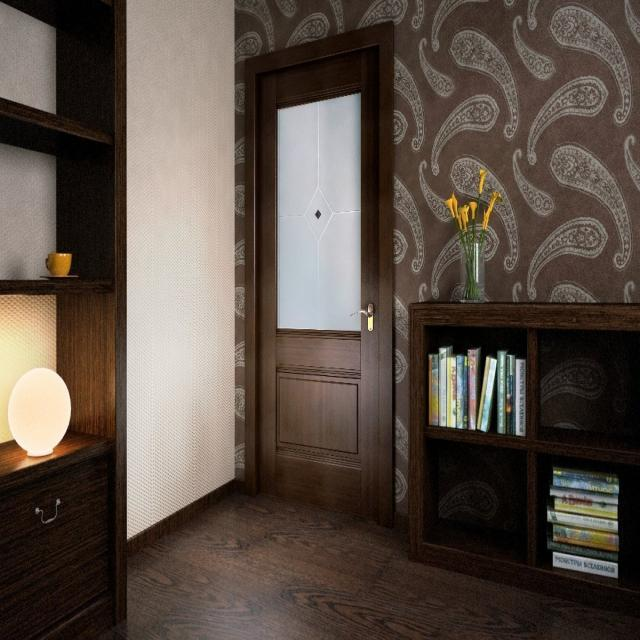close: (251, 68, 385, 510)
